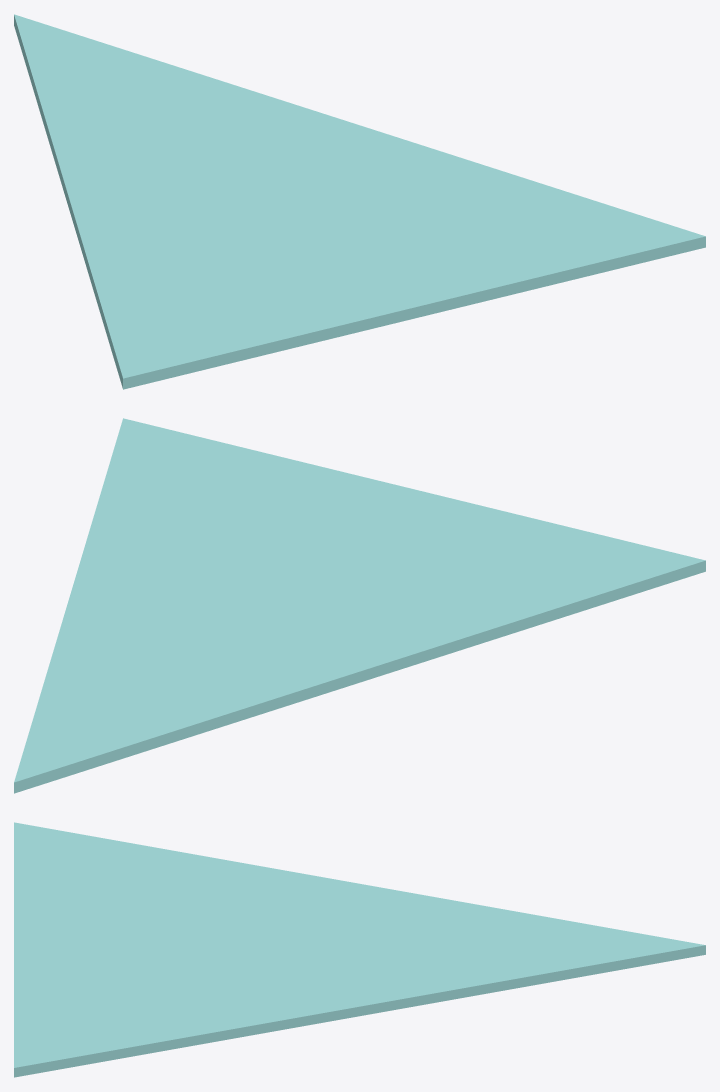
The model's file is compus_arrow.fbx.
3 views of the same model, one above another, from view 1: azimuth 30°, elevation 25°; view 2: azimuth 150°, elevation 25°; view 3: azimuth 270°, elevation 25° (orthographic). The views are drawn at different scales.
Visible parts, largest first — view 1: polySurface1; view 2: polySurface1; view 3: polySurface1.
Part boxes in pixels (x1,y1,x2,y2): polySurface1: (14,14,705,389); polySurface1: (14,418,705,793); polySurface1: (14,822,705,1077).
Bounding box in the file's own units: 16.48 × 0.3 × 19.62.
